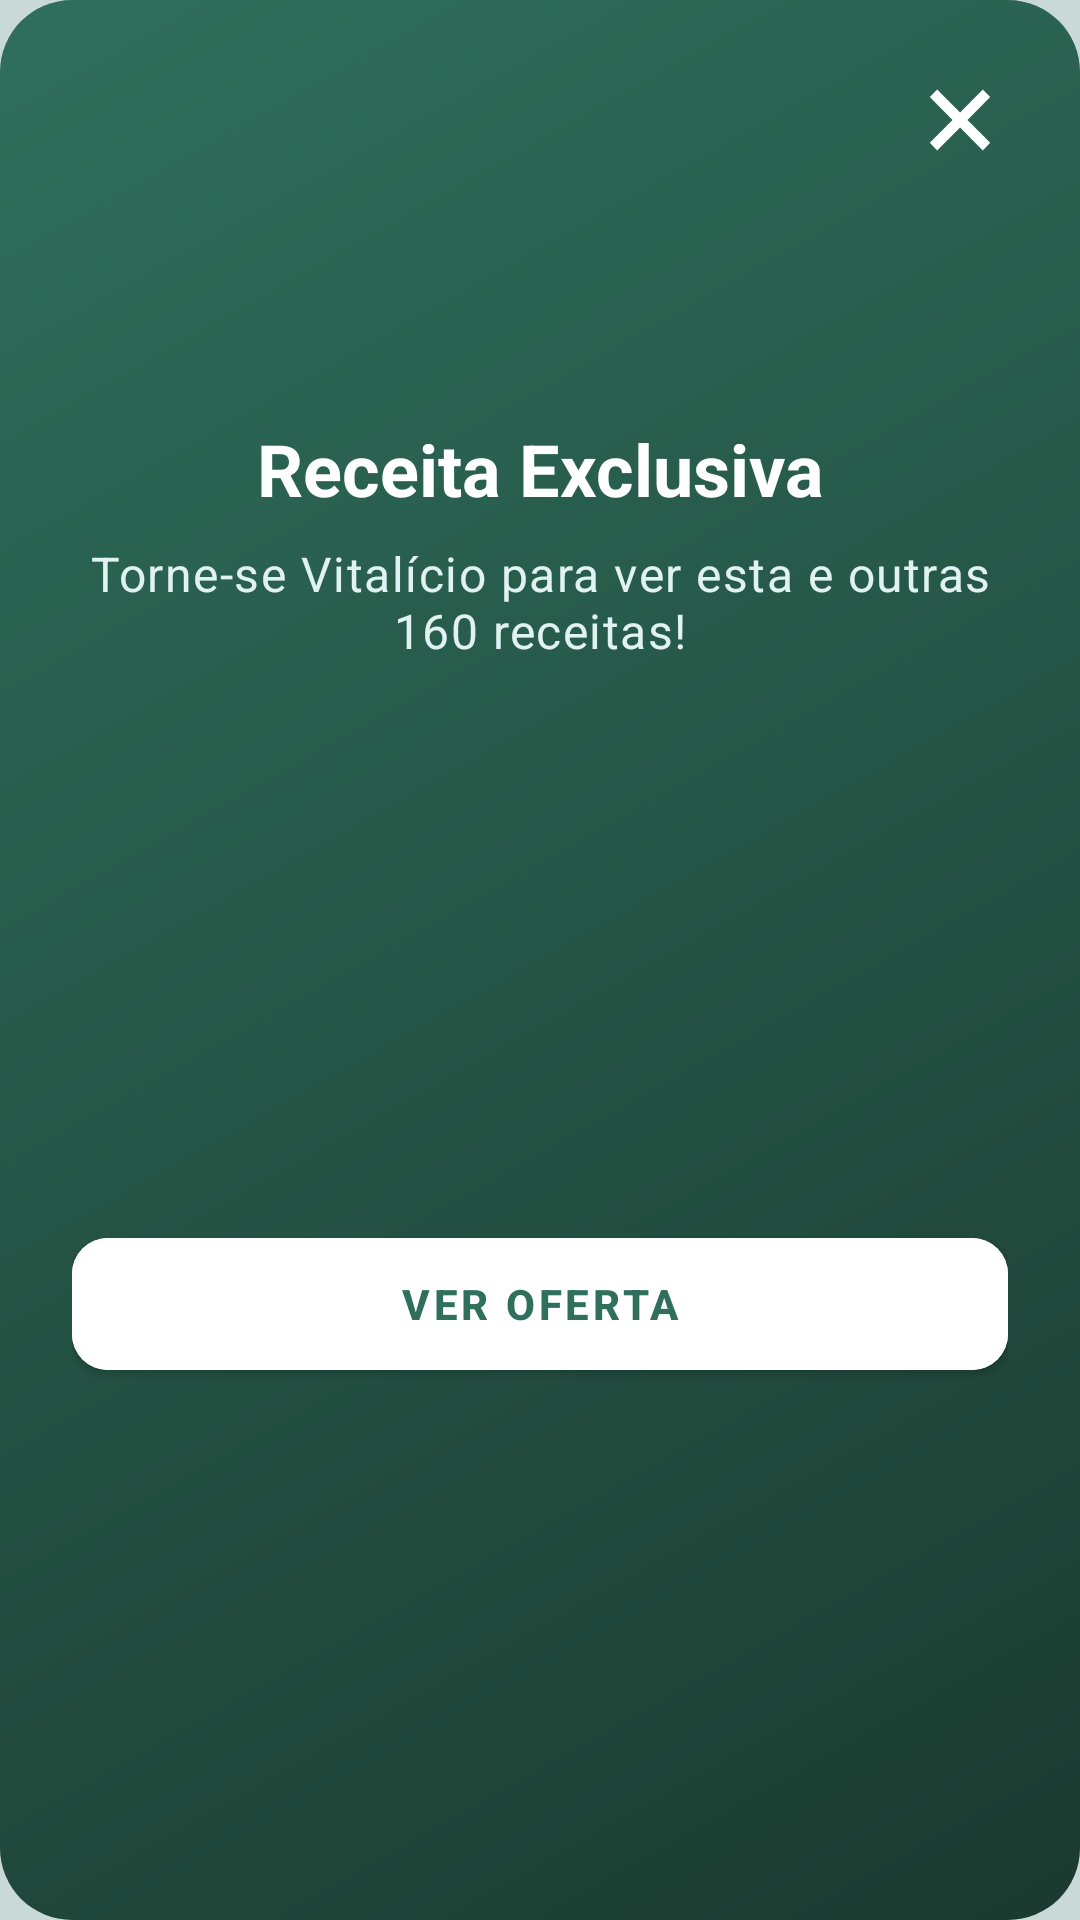

Screen size 1080w x 1920h. Icon name, then its box in pixels as (x1, y1, x2, y2):
Fechar diálogo: (930, 89, 990, 151)
